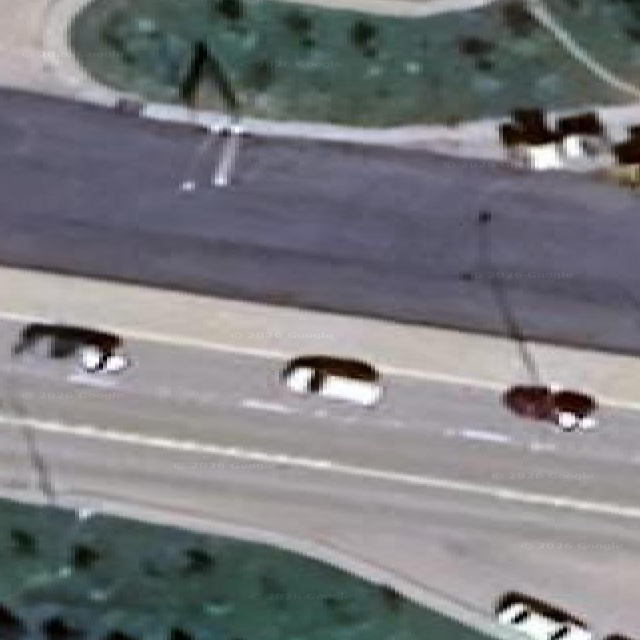car: (12, 323, 129, 372), (281, 355, 381, 406), (495, 593, 592, 639), (502, 385, 596, 430), (503, 385, 553, 419), (554, 390, 596, 429), (603, 633, 633, 639)
